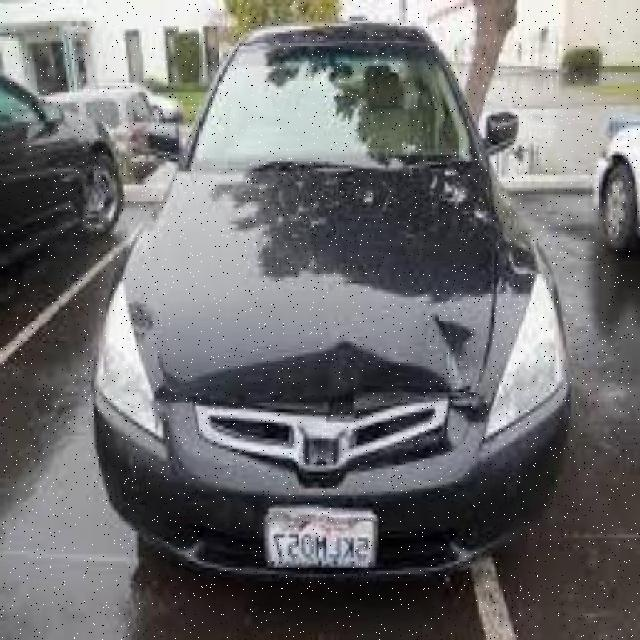damage: (301, 306, 496, 441)
